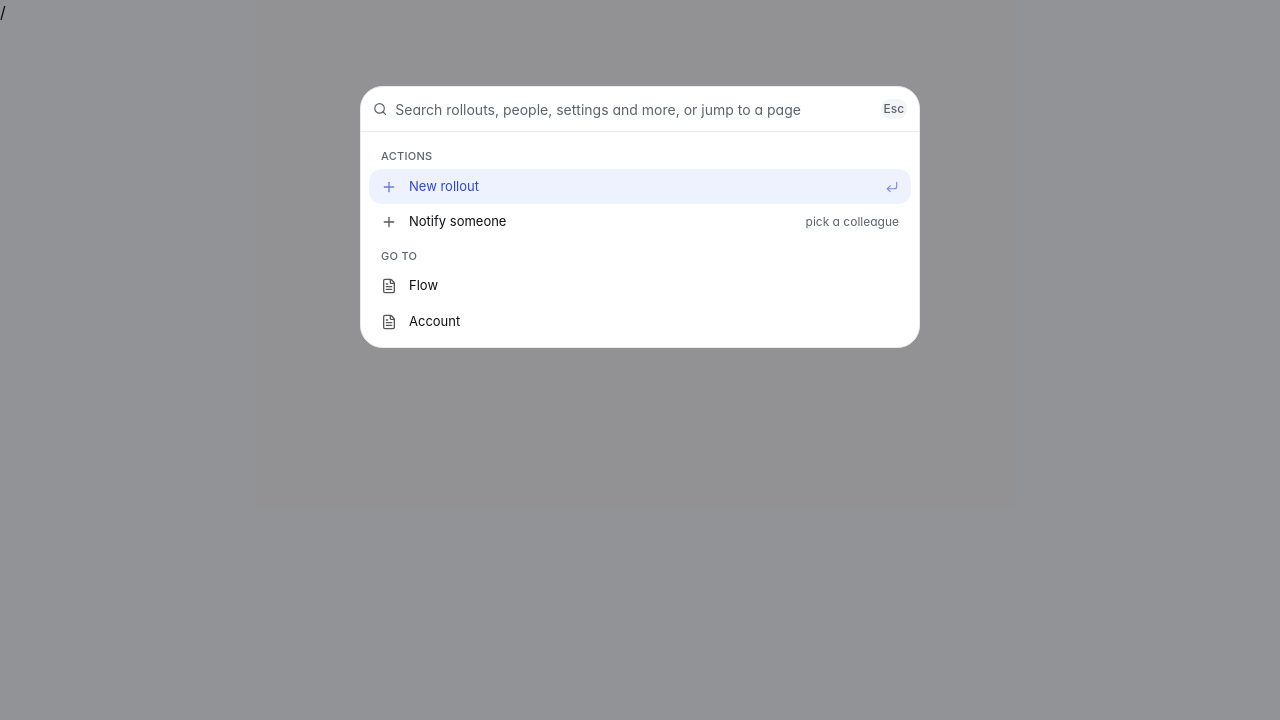
Test: the palette (B7) › finds a policy by its label and lands on its row
Step 1. Type "undo window" into the dropdown → (634, 109), box [395,87,873,131]
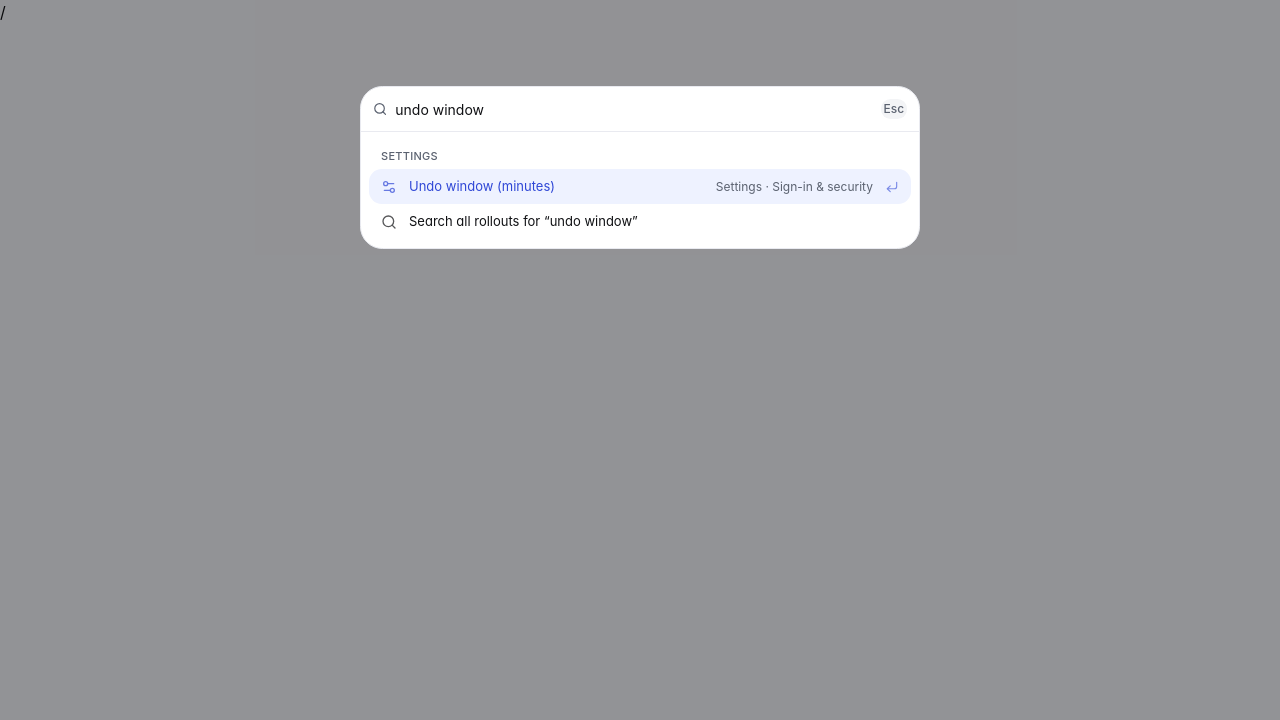
Result: the option "Undo window (minutes) Settings · Sign-in & security" is shown at [369,169,911,204]
Step 2. Press Enter
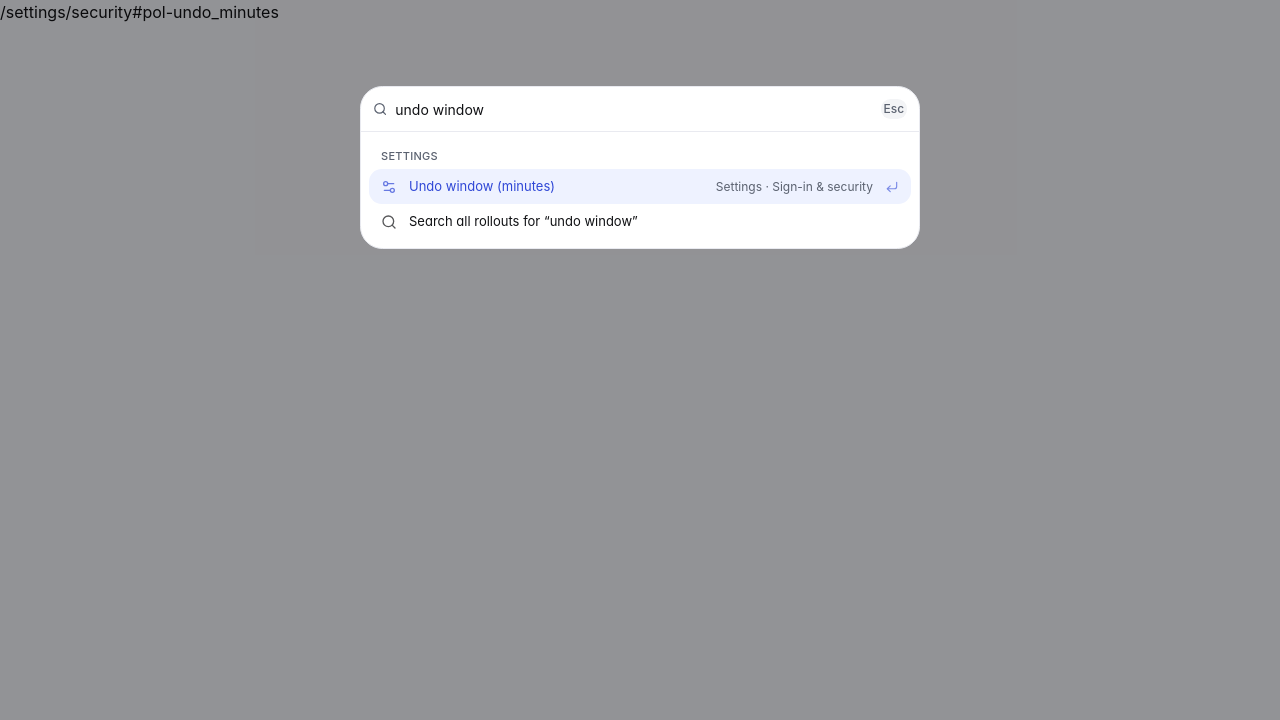
Result: the text with test id "where" reads "/settings/security#pol-undo_minutes" at [0,2,279,22]
